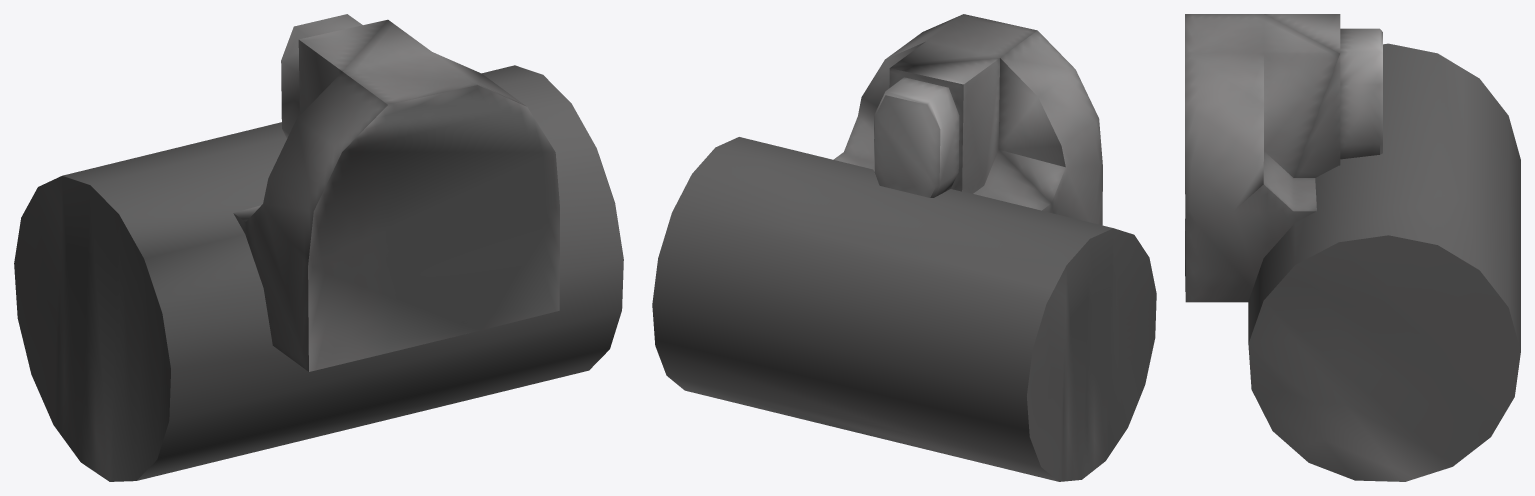
Rendered from l_clav.dae.
3 renders of one model, left to right at view 1: azimuth 30°, elevation 25°; view 2: azimuth 150°, elevation 25°; view 3: azimuth 270°, elevation 25°, orthographic. The views are drawn at different scales.
Parts seen in each view (by area): view 1: p42651_1; view 2: p42651_1; view 3: p42651_1.
Boxes of the visible parts, x1,y1,x2,y2 form: p42651_1: (14, 14, 623, 481); p42651_1: (652, 14, 1156, 481); p42651_1: (1185, 14, 1520, 481).
Size of the model in its own units: 0.1525 by 0.1129 by 0.1308.
